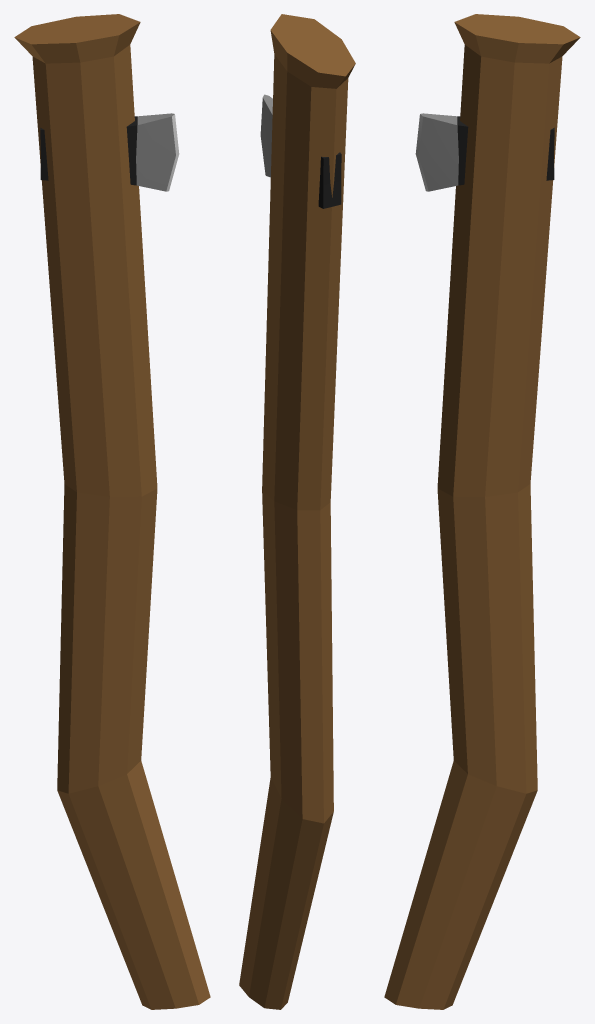
Rendered from Axe24.glb.
3 views of the same model, side by side, from view 1: azimuth 90°, elevation 25°; view 2: azimuth 210°, elevation 25°; view 3: azimuth 270°, elevation 25° (orthographic).
Parts seen in each view (by area): view 1: weapon_generator; view 2: weapon_generator; view 3: weapon_generator.
Part boxes in pixels (<box>): weapon_generator: <box>14,14,210,1009</box>; weapon_generator: <box>239,14,355,1009</box>; weapon_generator: <box>384,14,580,1009</box>.
Bounding box in the file's own units: 0.068 × 1.19 × 0.2149.
